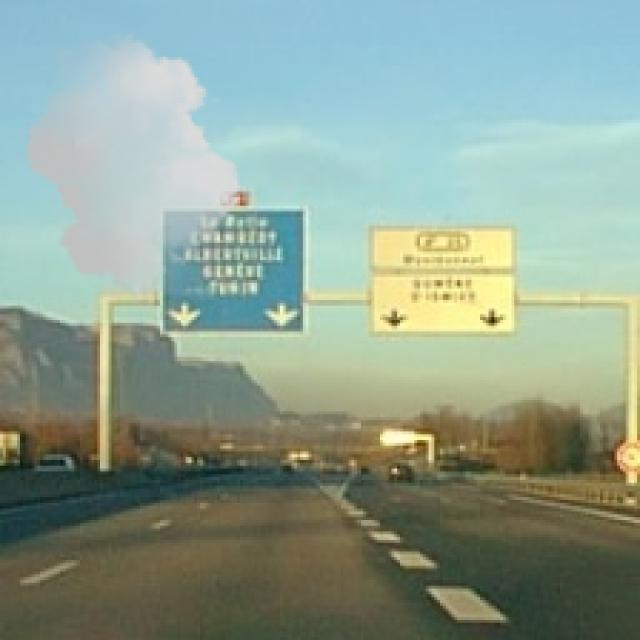Smoke: (17, 34, 249, 300)
